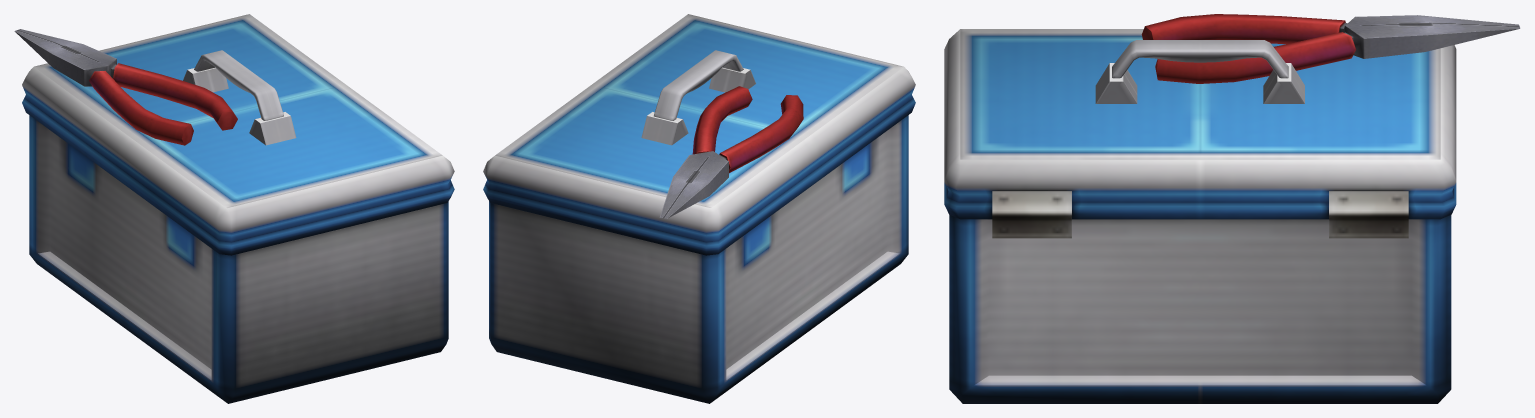
Rendered from WuZhengDiaoChaKe_01_baoxianxiang_01.FBX.
The picture shows the model from 3 angles, left to right: view 1: azimuth 30°, elevation 25°; view 2: azimuth 150°, elevation 25°; view 3: azimuth 270°, elevation 25°; orthographic projection. The views are drawn at different scales.
Parts seen in each view (by area): view 1: CeSuo_baoxianxiang_01; view 2: CeSuo_baoxianxiang_01; view 3: CeSuo_baoxianxiang_01.
Boxes of the visible parts, left/top/right/bottom form: CeSuo_baoxianxiang_01: left=14, top=14, right=454, bottom=403; CeSuo_baoxianxiang_01: left=483, top=14, right=915, bottom=403; CeSuo_baoxianxiang_01: left=944, top=14, right=1520, bottom=403.
Size of the model in its own units: 168 by 160 by 284.
Materials: 1 (1 with a texture image).
